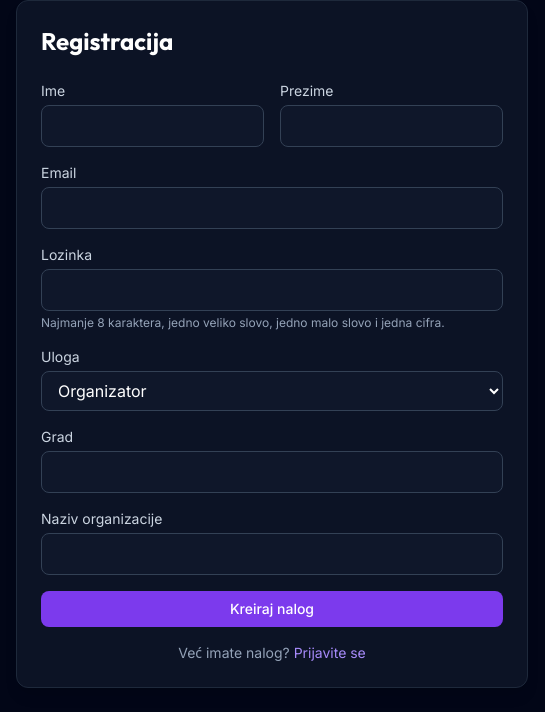
it: RegisterPage › shows a validation error for every required field on empty submit
Click the button "Kreiraj nalog" at (272, 609), box [41,591,503,627]
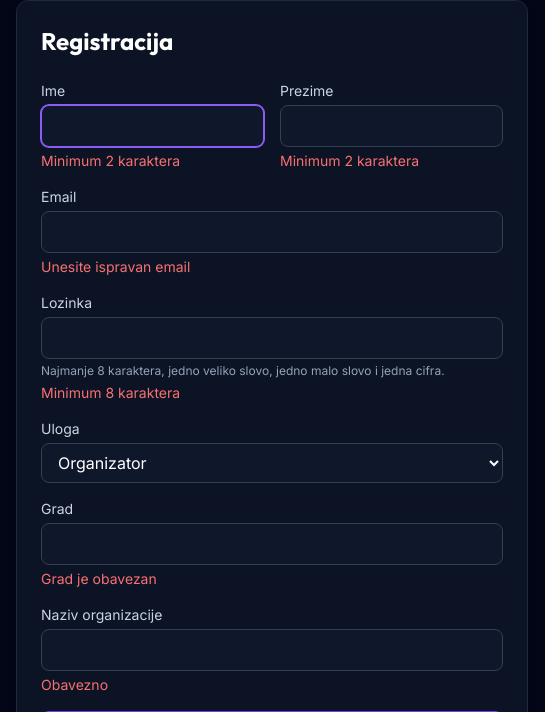
Now the message with id "reg-firstName-error" is shown, box [41,152,180,169]
Now the message with id "reg-lastName-error" is shown, box [280,152,419,169]
Now the message "Unesite ispravan email" is shown, box [41,258,190,275]
